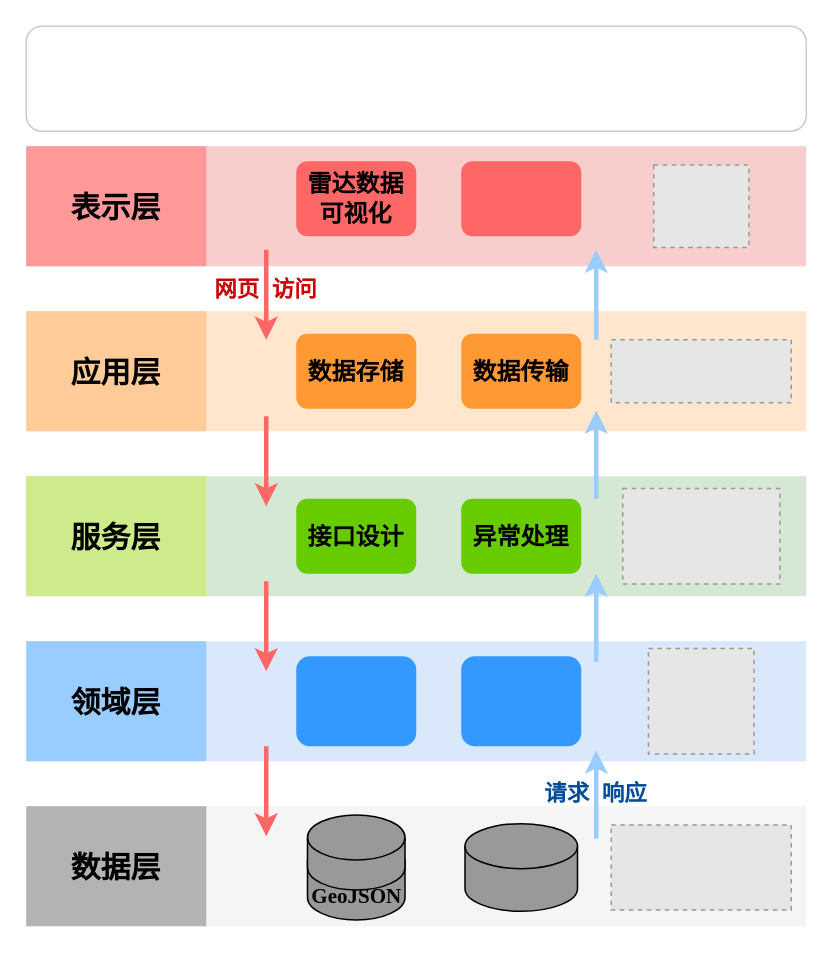
Image size: 833x953. Some labels were removed from this diagram. Grey dashed boxes stand in for pictures. Each missing label, with the centre of its shape:
"JSON" goes at point (355, 851).
"再分析数据可视化" goes at point (520, 198).
"图像数据" goes at point (521, 866).
"基于三维数字地球的多源异构气象数据可视化系统开发" goes at point (415, 78).
"标量场 可视化" goes at point (356, 701).
"矢量场 可视化" goes at point (520, 701).
